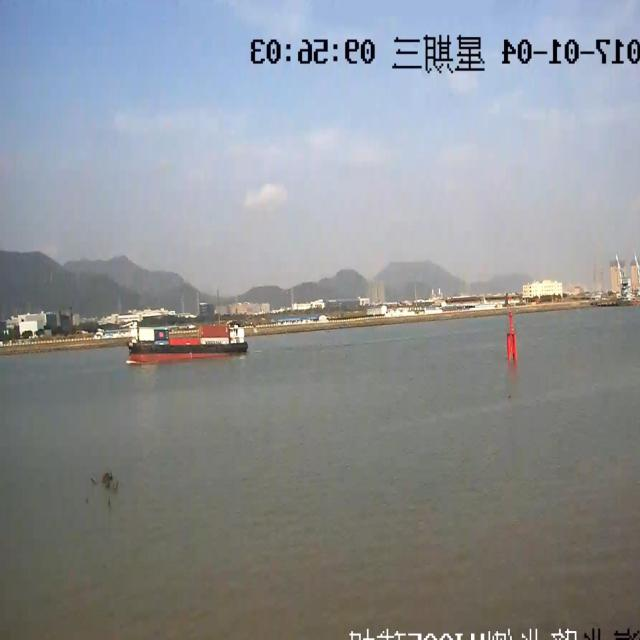cargoship: (123, 306, 246, 352)
